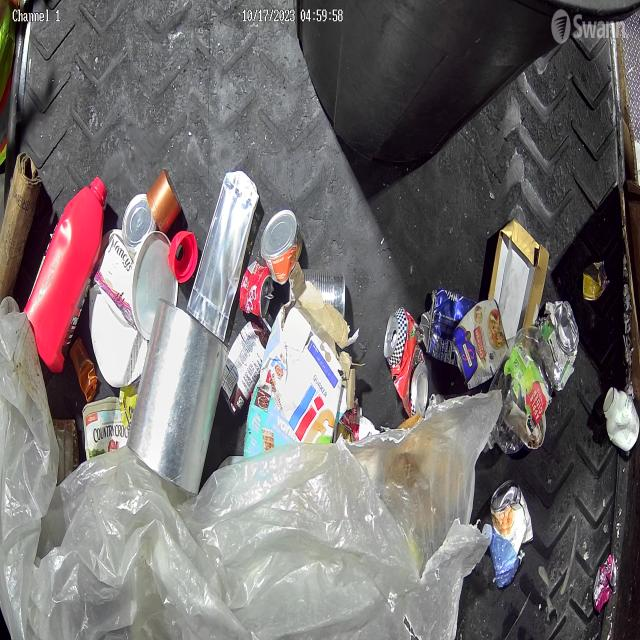can: (450, 298, 509, 388), (383, 306, 429, 419), (536, 297, 579, 395), (256, 208, 300, 290), (489, 478, 534, 557), (289, 266, 346, 320), (235, 264, 272, 324), (592, 551, 617, 613)
non_white_jug: (29, 180, 108, 377)
